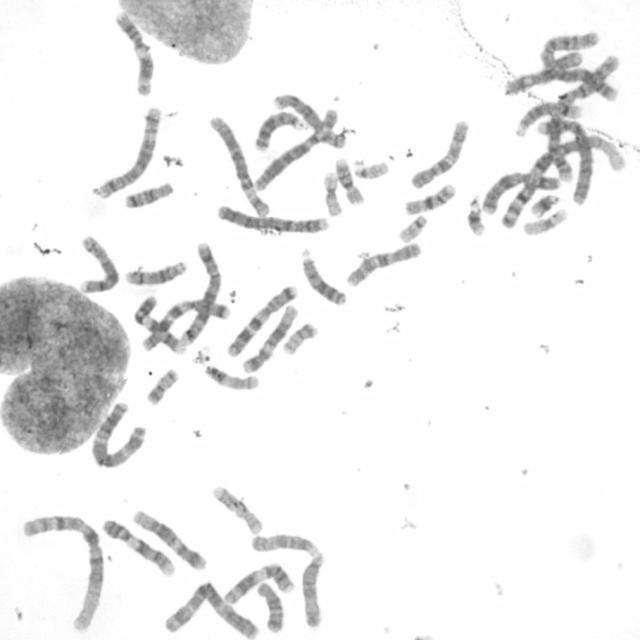A1: (494, 132, 628, 229), (20, 512, 107, 636)
A2: (551, 57, 620, 182), (536, 30, 620, 103)
A3: (162, 579, 260, 639), (88, 396, 146, 471)
B4: (537, 119, 594, 208), (213, 200, 331, 236)
B5: (91, 104, 163, 201), (178, 239, 222, 348)
C10: (408, 116, 471, 190), (342, 238, 423, 288)
C11: (112, 8, 156, 97), (221, 559, 296, 606)
C12: (129, 505, 208, 572), (239, 300, 299, 374)
C6: (250, 104, 342, 192), (206, 114, 272, 220)
C7: (222, 281, 300, 359), (136, 294, 233, 353)
C8: (271, 90, 347, 150), (75, 232, 121, 296)
C9: (99, 515, 174, 578), (130, 293, 186, 356)
D13: (297, 244, 349, 308), (252, 109, 304, 153)
D14: (512, 98, 584, 139), (122, 257, 188, 287)
D15: (298, 549, 326, 630), (247, 530, 323, 558)
E16: (400, 179, 458, 217), (332, 156, 366, 206)
E17: (213, 487, 262, 537), (201, 360, 262, 392)
E18: (120, 179, 174, 211), (253, 580, 285, 634)
F19: (519, 206, 569, 237), (320, 168, 345, 218)
F20: (279, 319, 319, 357), (144, 364, 180, 406)
G21: (464, 194, 488, 237), (526, 190, 562, 218)
G22: (396, 212, 428, 243), (351, 157, 392, 181)
X: (495, 63, 620, 109), (481, 172, 560, 218)
